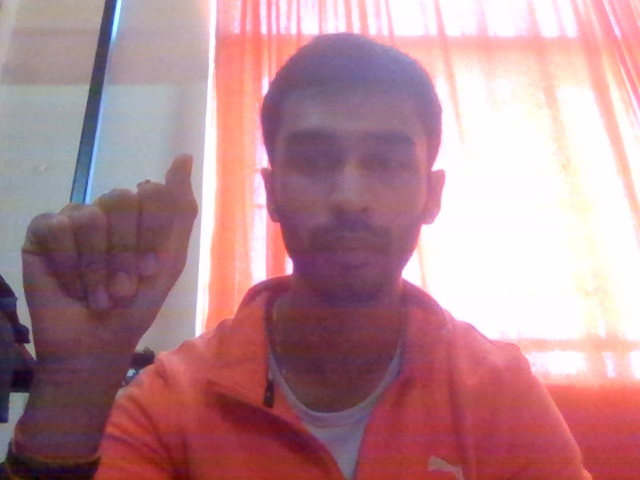A: (5, 144, 231, 381)
